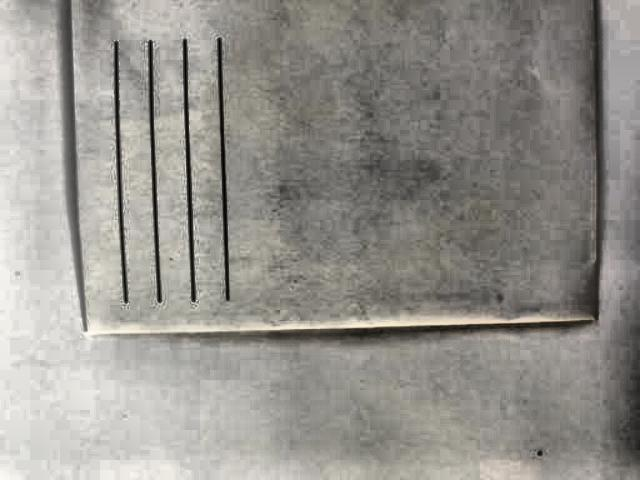Paper: (54, 0, 617, 339)
